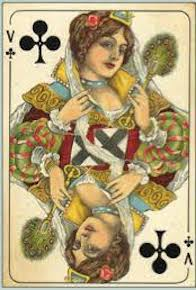QueenOfClubs: (5, 4, 196, 288)
